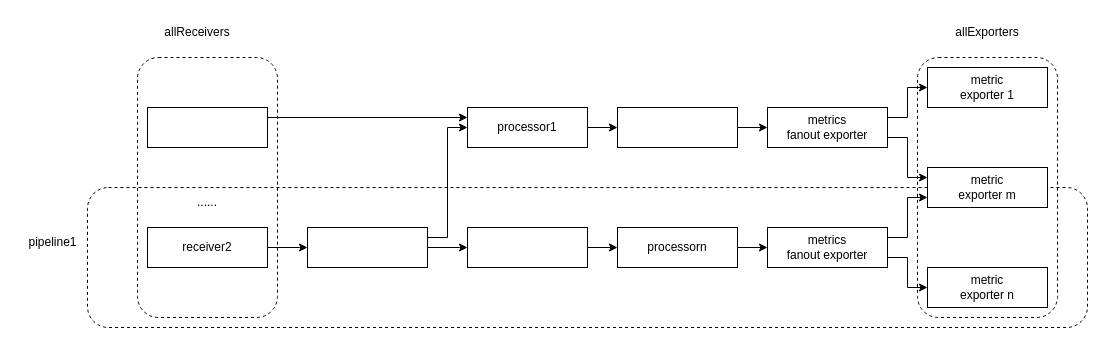
Some shapes in this 1105 by 345 pixel diagram are drawn without their labels. The shapes that lost their labels are listed below. From the top down, each one's centre as x and y in pixels, then its label:
At point (207, 127): "receiver1".
At point (677, 127): "processor2".
At point (367, 247): "metrics fanout consumer".
At point (527, 247): "processorm".
